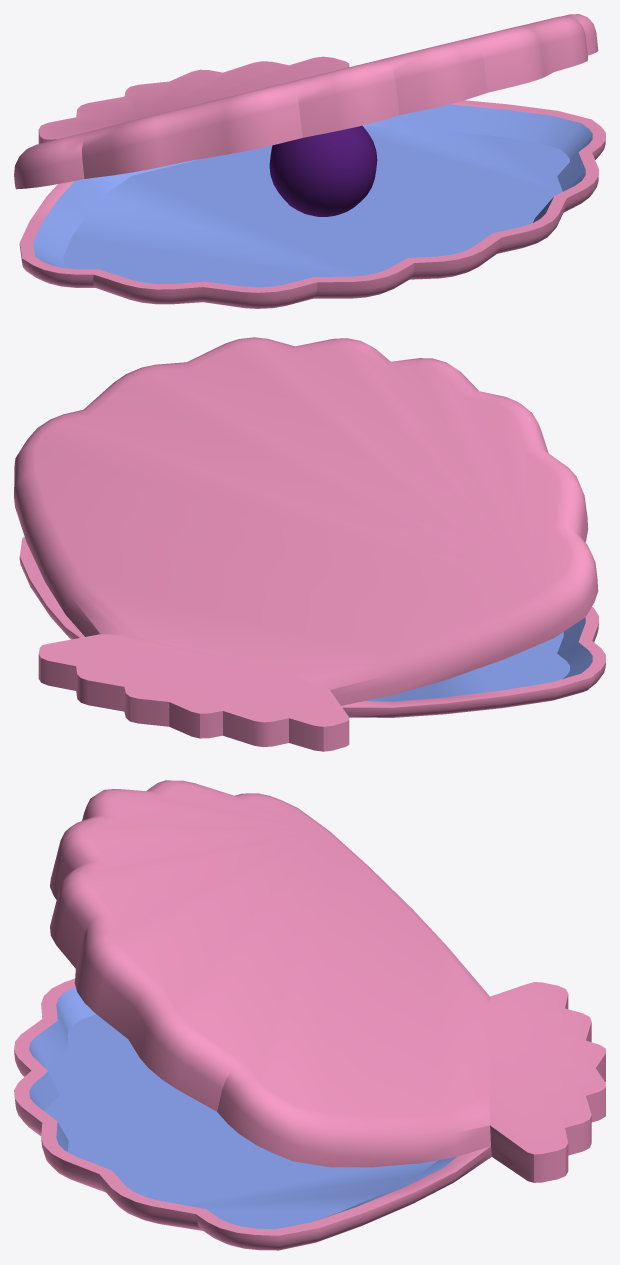
Rendered from ShellOpen.fbx.
The picture shows the model from 3 angles, top to bottom: view 1: azimuth 30°, elevation 25°; view 2: azimuth 150°, elevation 25°; view 3: azimuth 270°, elevation 25°; orthographic projection. The views are drawn at different scales.
Parts seen in each view (by area): view 1: ShellOpen; view 2: ShellOpen; view 3: ShellOpen.
Part boxes in pixels (left/top/right/bottom): ShellOpen: left=14, top=14, right=605, bottom=308; ShellOpen: left=14, top=337, right=605, bottom=751; ShellOpen: left=14, top=780, right=605, bottom=1250.
Bounding box in the file's own units: 10 × 3.55 × 7.82.
